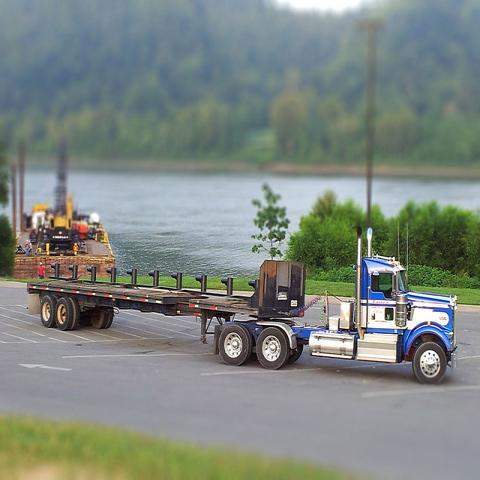truck: (25, 224, 458, 386)
